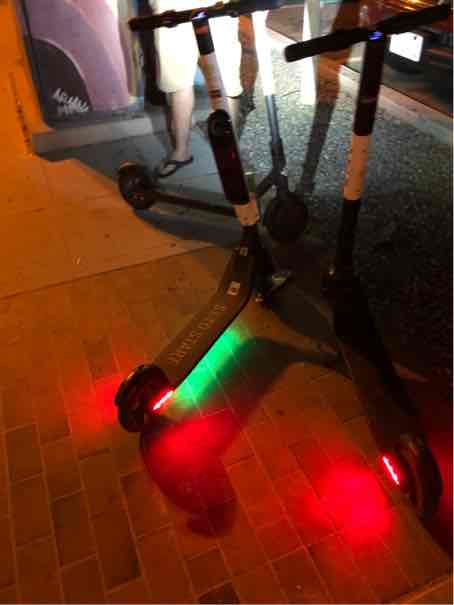scooter: (107, 1, 287, 443)
